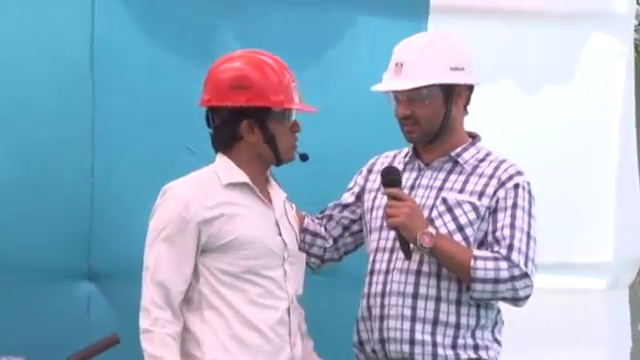helmet: (199, 47, 318, 116), (367, 27, 485, 94)
helmet_on: (196, 46, 319, 179), (365, 26, 487, 158)
person: (292, 28, 539, 360), (138, 48, 320, 360)
